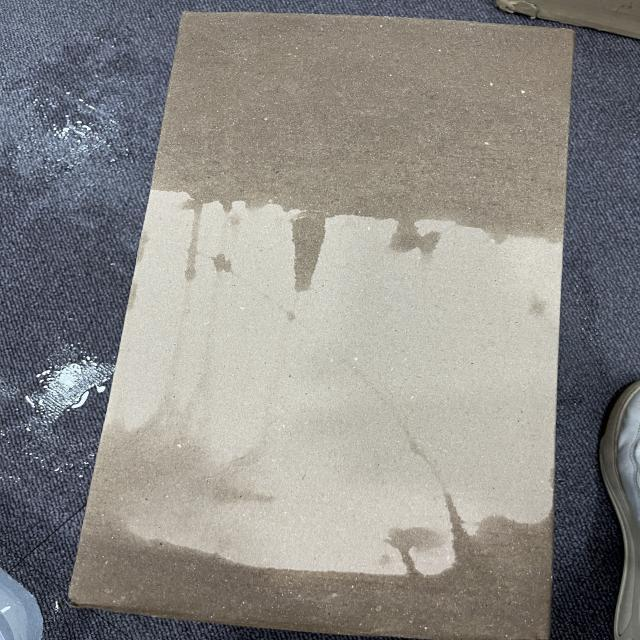wet: (145, 14, 572, 251), (74, 508, 558, 634)
